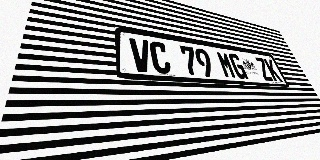7: (178, 45, 201, 76)
9: (193, 48, 216, 77)
C: (149, 41, 172, 74)
G: (227, 53, 249, 79)
K: (263, 58, 283, 82)
M: (215, 51, 237, 79)
V: (129, 38, 153, 73)
Z: (254, 57, 274, 81)
